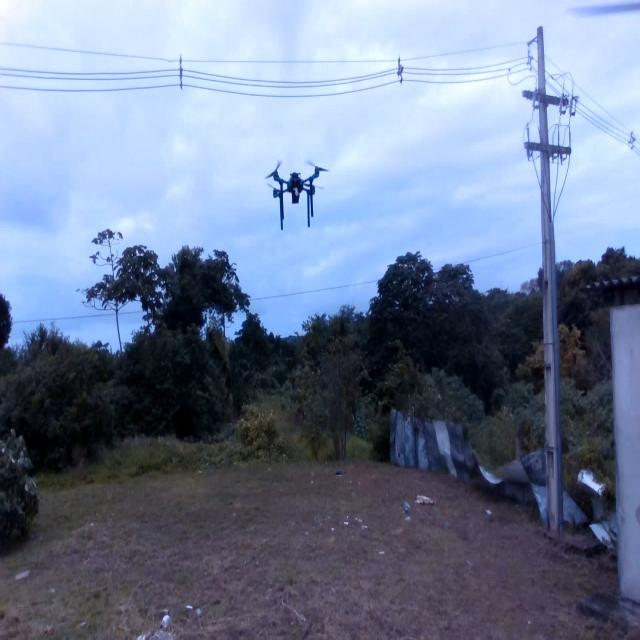-uav-: (262, 154, 341, 234)
